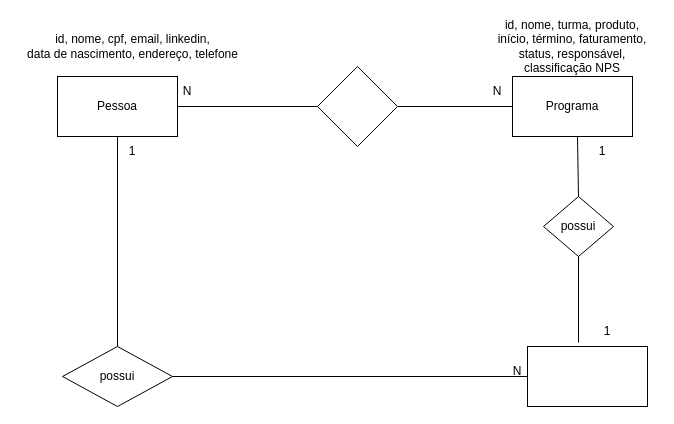
This 674x424 diagram has some shape labels left out. The box of each missing label's shape, as (x1, y1, x2, y2) in pixels:
Matrícula: (526, 346, 648, 406)
participa: (316, 66, 398, 146)
